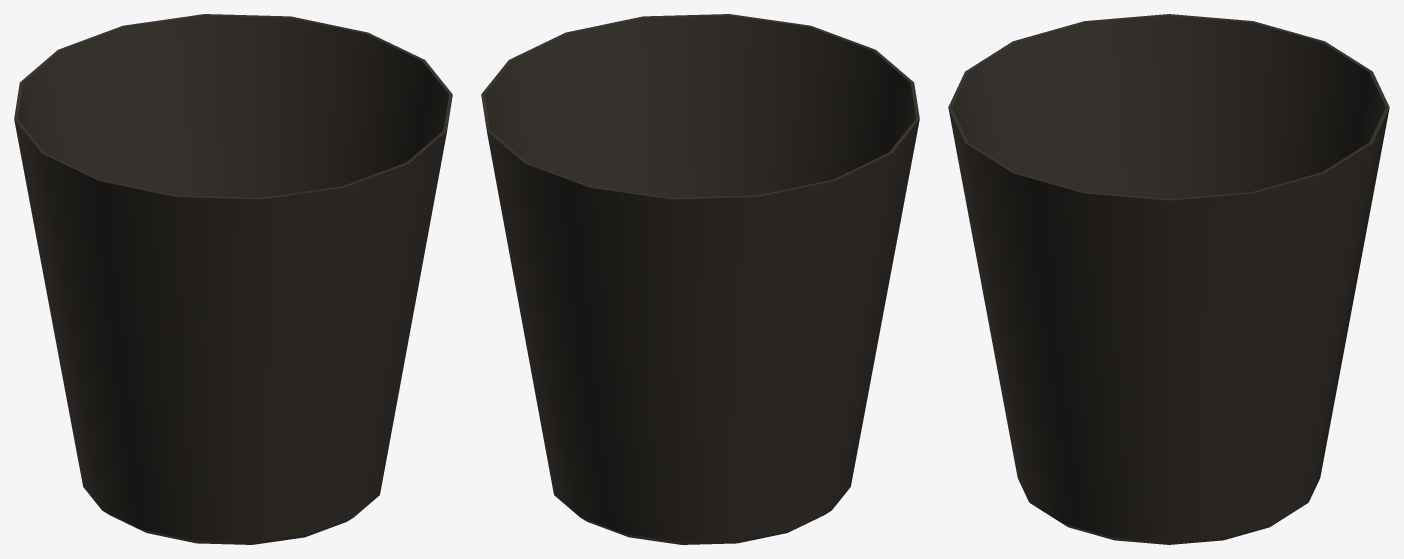
The model's file is BgMD_Glass01_02.fbx.
The picture shows the model from 3 angles, left to right: view 1: azimuth 30°, elevation 25°; view 2: azimuth 150°, elevation 25°; view 3: azimuth 270°, elevation 25°; orthographic projection.
Visible parts, largest first — view 1: BgMD_Grass_02; view 2: BgMD_Grass_02; view 3: BgMD_Grass_02.
Part boxes in pixels (x1=…): BgMD_Grass_02: x1=14, y1=14, x2=452, y2=544; BgMD_Grass_02: x1=481, y1=14, x2=919, y2=544; BgMD_Grass_02: x1=948, y1=14, x2=1389, y2=544.
Bounding box in the file's own units: 0.1016 × 0.0958 × 0.1016.
